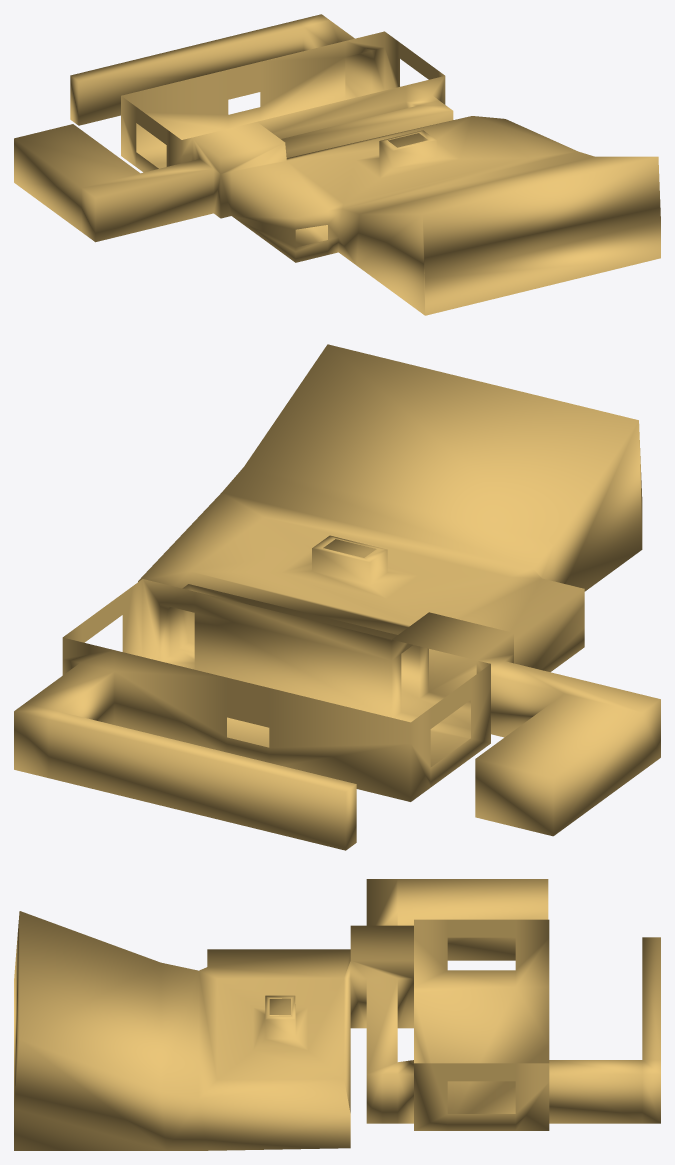
The model's file is map.glb.
3 views of the same model, one above another, from view 1: azimuth 30°, elevation 25°; view 2: azimuth 150°, elevation 25°; view 3: azimuth 270°, elevation 25° (orthographic). The views are drawn at different scales.
Parts seen in each view (by area): view 1: Plane; view 2: Plane; view 3: Plane.
Part boxes in pixels (box(x1,y1,x2,y2)): Plane: box(14, 14, 660, 315); Plane: box(14, 344, 660, 850); Plane: box(14, 879, 660, 1150).
Bounding box in the file's own units: 46.6 × 10.91 × 57.33.
